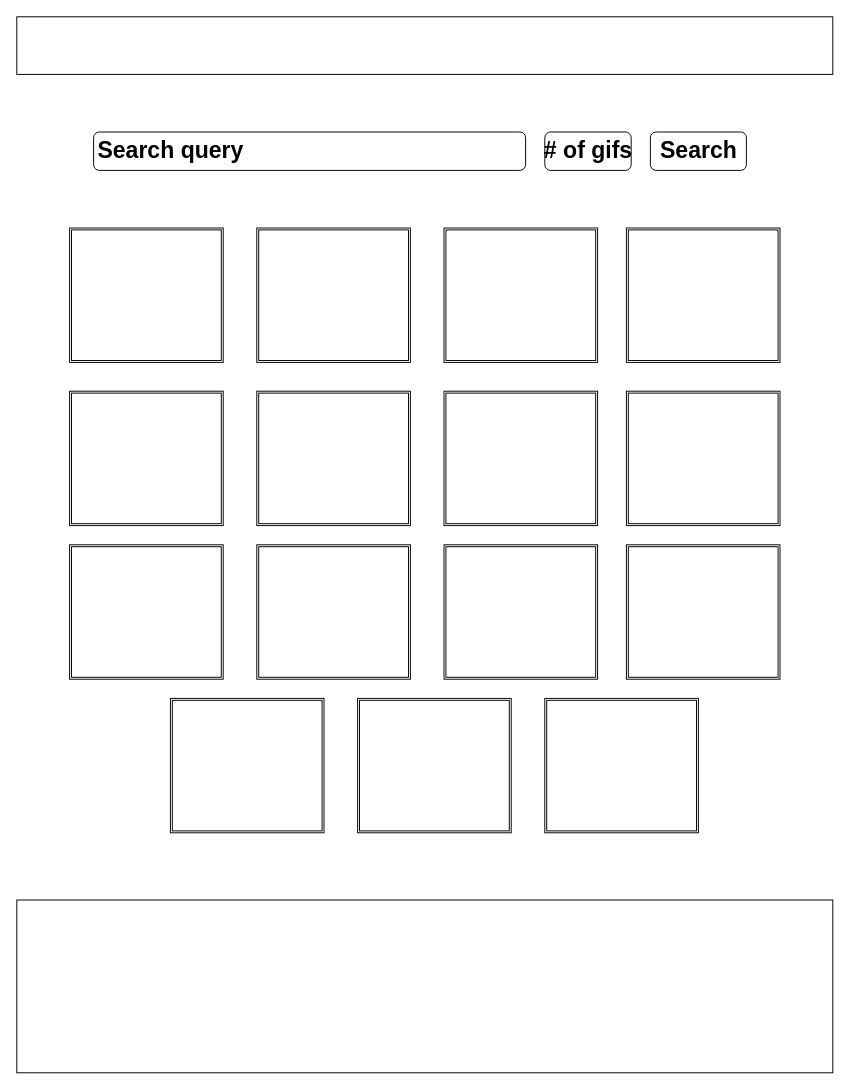
This 850x1090 diagram has some shape labels left out. The shapes that lost their labels are listed below. From the top down, each one's centre as x and y in pixels, then its label:
At point 424,45: "GIPHY Search API".
At point 424,986: "About".
